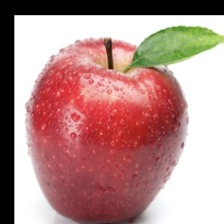apple: (42, 20, 178, 164)
